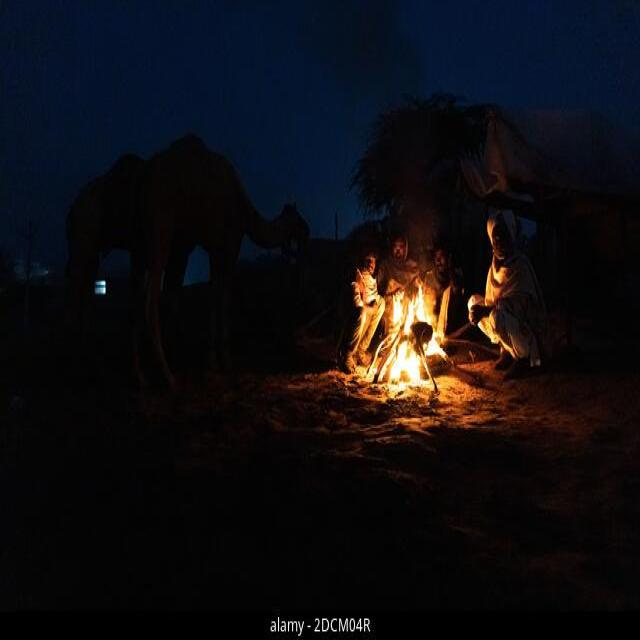fire: (389, 341, 420, 385)
